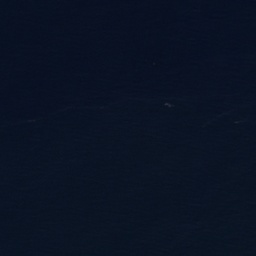Marine Debris: (163, 101, 173, 109)
